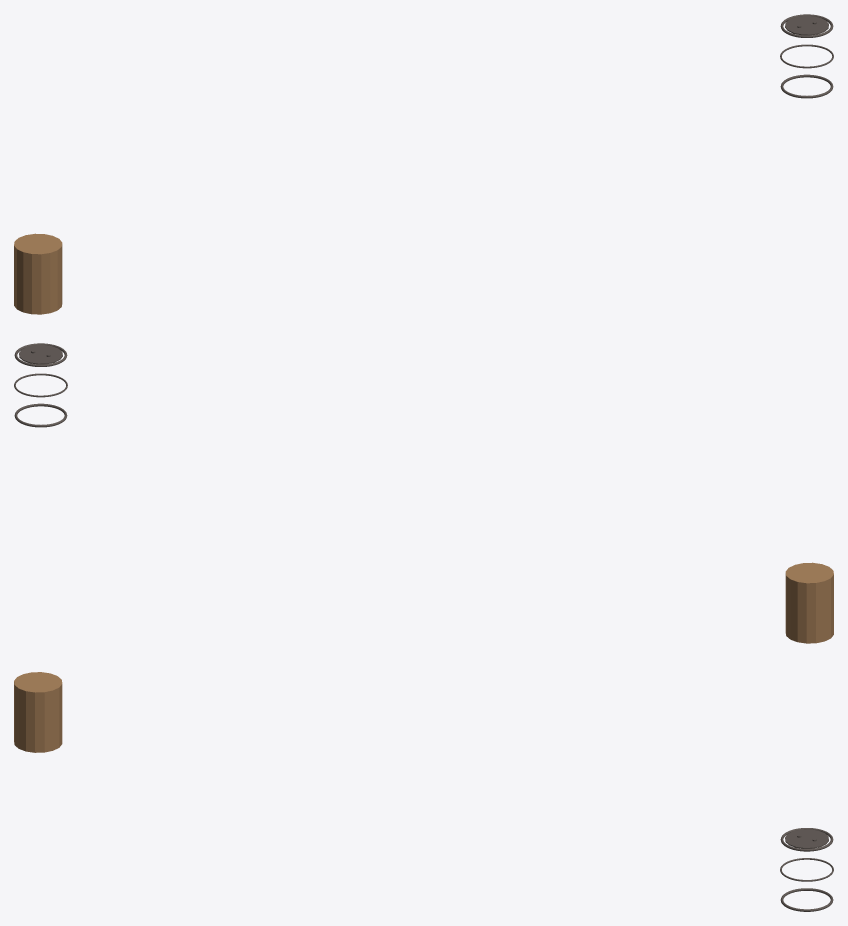
Rendered from bazaar_oil_drum.glb.
The picture shows the model from 3 angles, top to bottom: view 1: azimuth 30°, elevation 25°; view 2: azimuth 150°, elevation 25°; view 3: azimuth 330°, elevation 25°; orthographic projection.
Parts seen in each view (by area): view 1: Drum_Body, Drum_Cap; view 2: Drum_Body, Drum_Cap; view 3: Drum_Body, Drum_Cap.
Boxes of the visible parts, <box> form: Drum_Body: <box>14,233,62,314</box>; Drum_Cap: <box>785,16,828,35</box>; Drum_Body: <box>785,562,833,643</box>; Drum_Cap: <box>19,345,62,364</box>; Drum_Body: <box>14,672,62,752</box>; Drum_Cap: <box>785,829,828,848</box>.
Size of the model in its own units: 8.46 by 0.9225 by 0.486.
